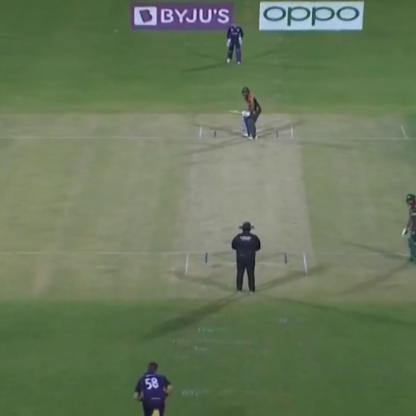bat: (219, 108, 248, 118)
pitch: (181, 128, 310, 281)
